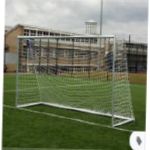goals: (14, 33, 137, 127)
